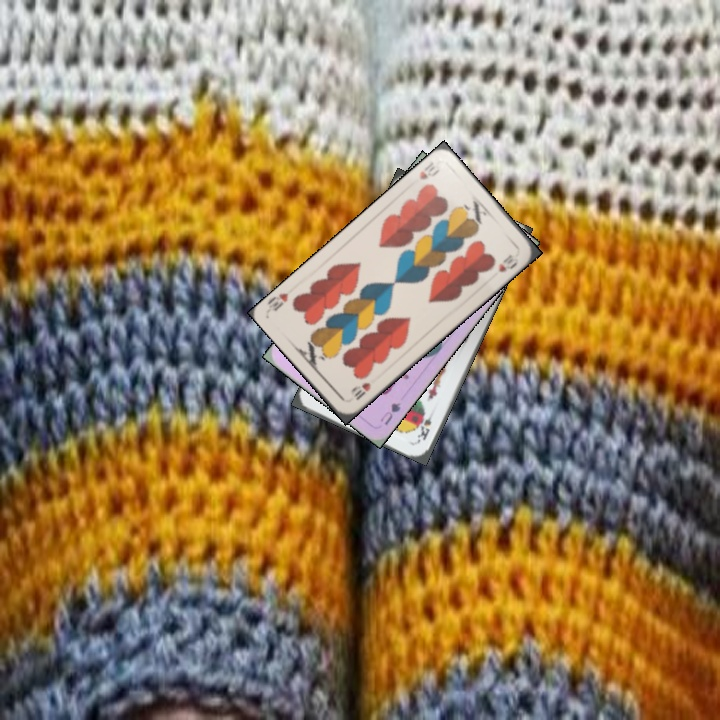GU: (376, 399, 403, 428)
H10: (415, 157, 442, 183), (350, 378, 373, 403)
SK: (413, 407, 437, 445)
